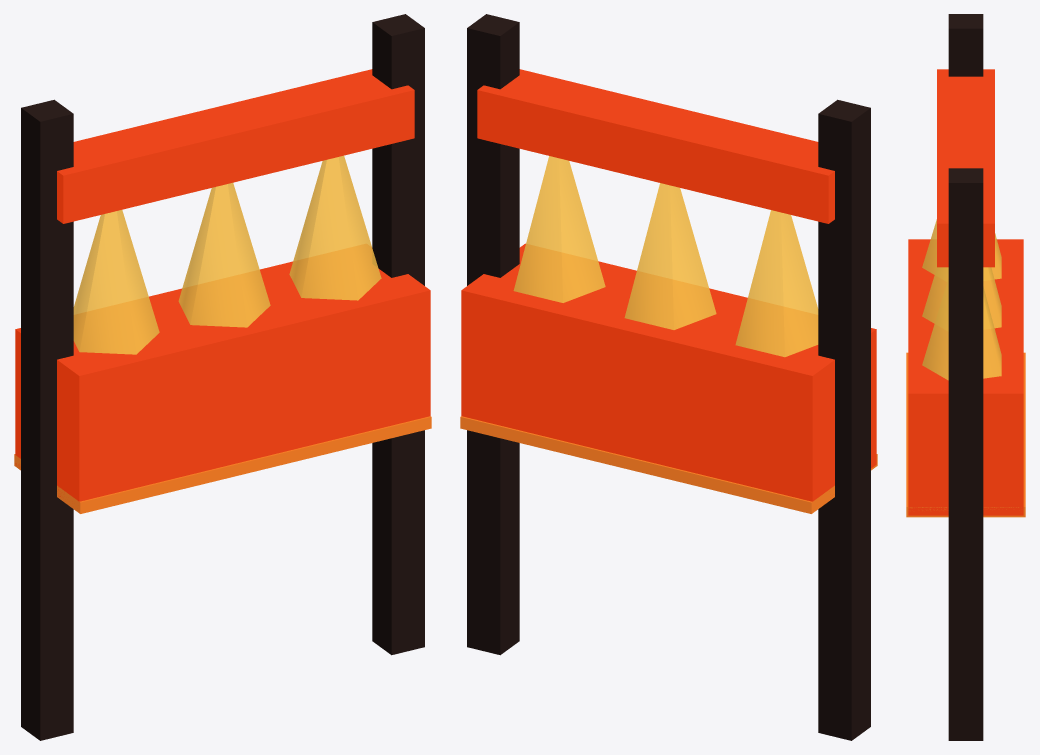
File: slide-beam.glb
The picture shows the model from 3 angles, left to right: view 1: azimuth 30°, elevation 25°; view 2: azimuth 150°, elevation 25°; view 3: azimuth 270°, elevation 25°; orthographic projection. The views are drawn at different scales.
Parts seen in each view (by area): view 1: hell slide-beam; view 2: hell slide-beam; view 3: hell slide-beam.
Part boxes in pixels (x1,y1,x2,y2): hell slide-beam: (14,14,431,740); hell slide-beam: (460,14,877,740); hell slide-beam: (906,14,1025,740).
Bounding box in the file's own units: 2.08 × 3.2 × 0.62.
